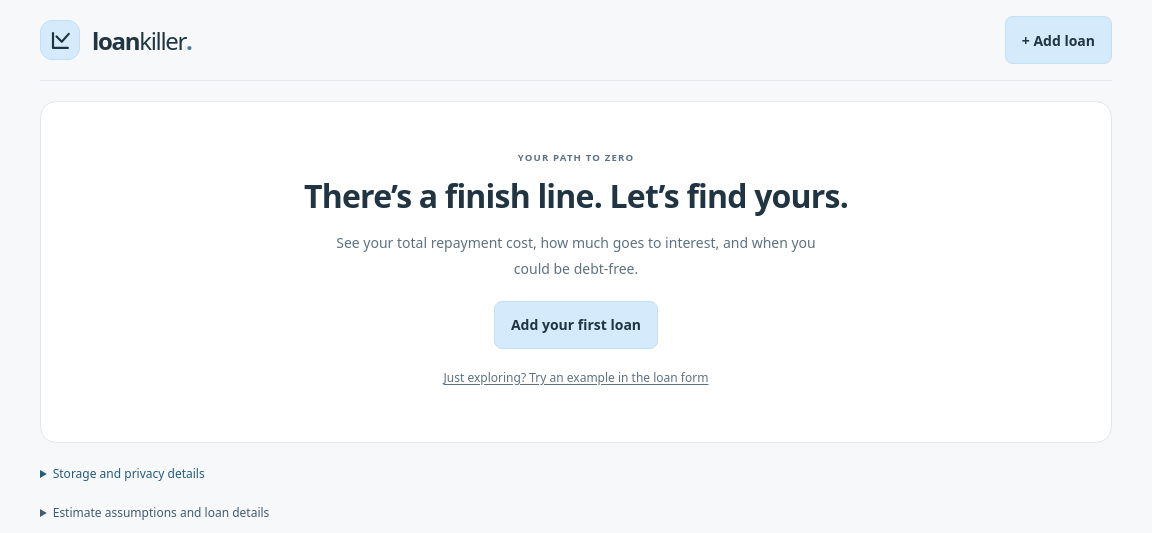
single-loan baseline › lets someone explore with an explicitly labeled example
Click the button with class "header-add" at (1058, 40), box [1005,16,1112,64]
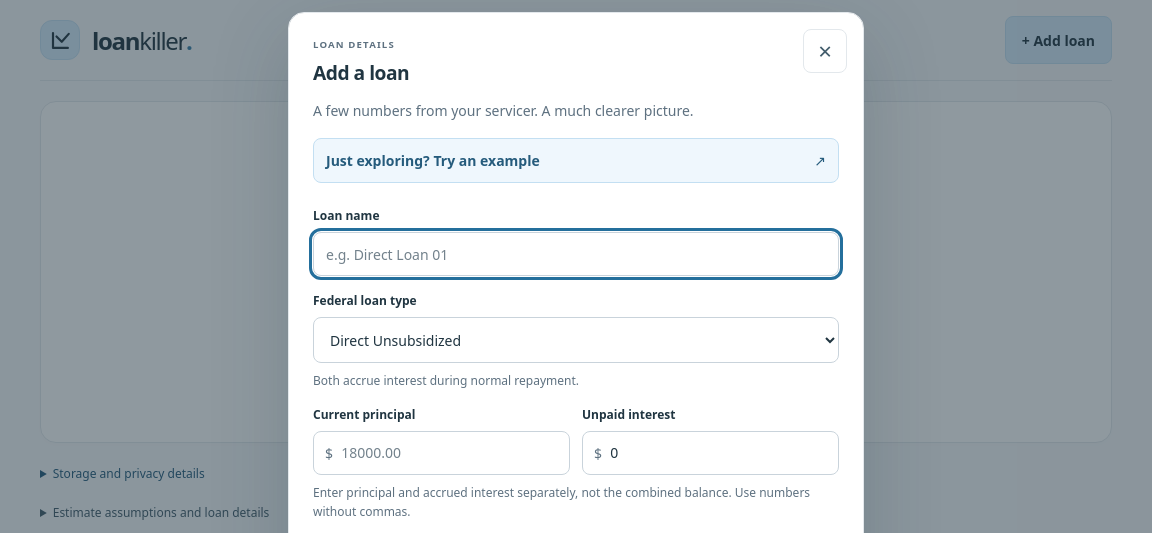
Click the button with class "example-button" at (433, 161), box [313,138,839,183]
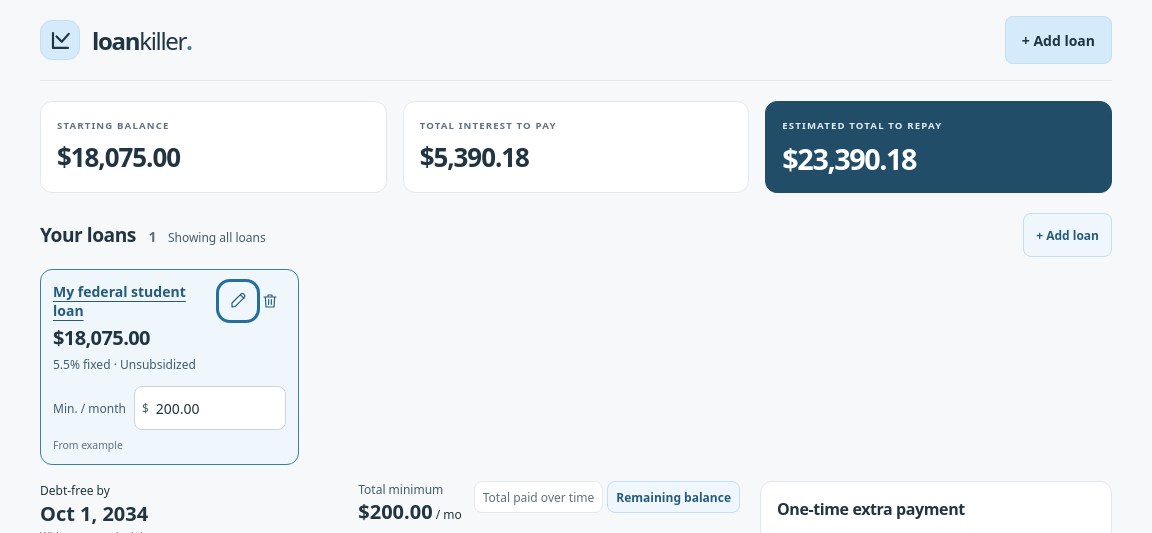
Expected: the text "From example" is shown, [53,438,123,452]
Expected: the text "Oct 1, 2034" is shown, [40,500,148,528]
Click the button named "Edit My federal student loan" at (238, 301), box [222,285,254,317]
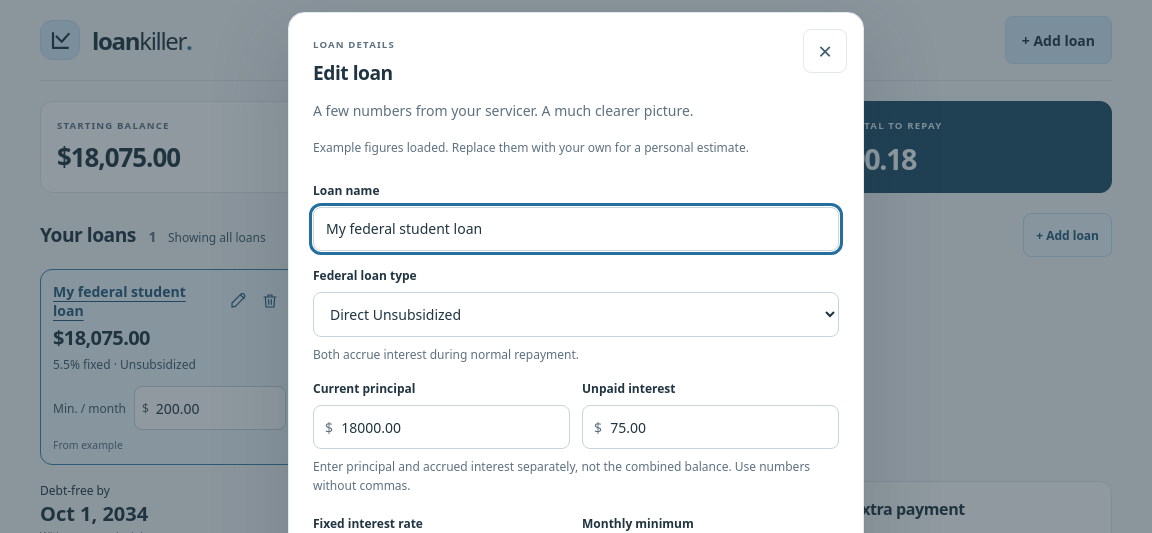
Expected: the field labelled "Current principal" holds "18000.00", [313,405,570,449]
Expected: the text "Example figures loaded." is shown, [313,139,749,156]
